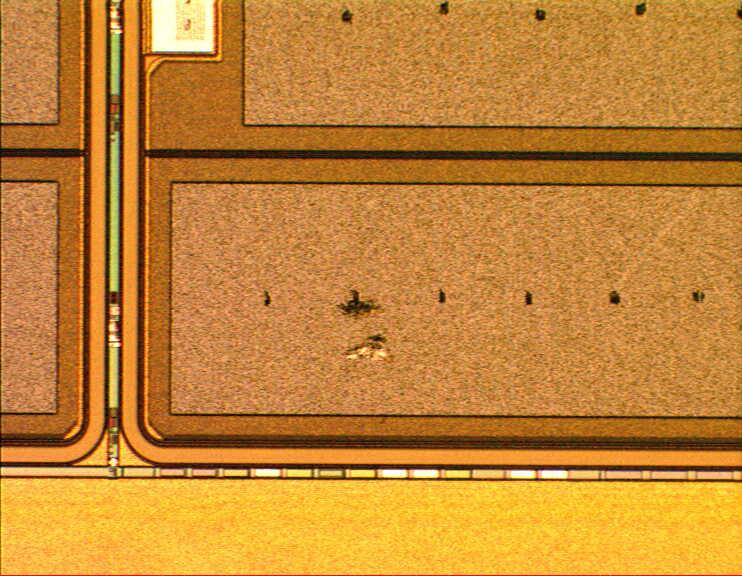SCRATCH: (331, 180, 717, 380)
